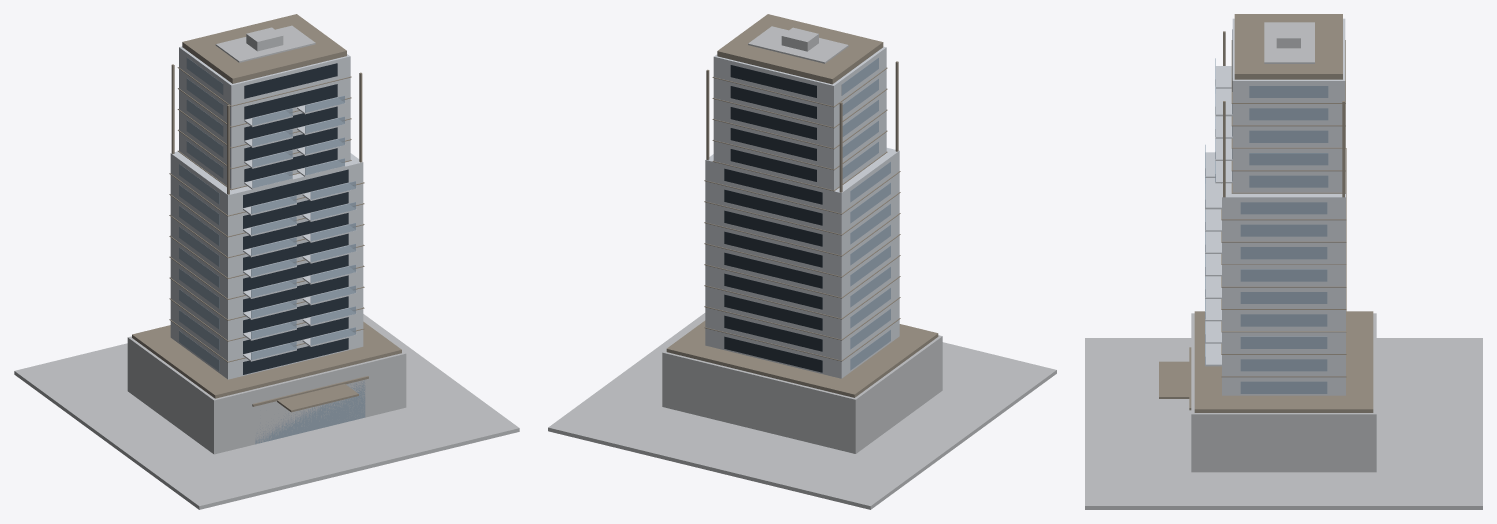
The model's file is signature-condo.glb.
3 renders of one model, left to right at view 1: azimuth 30°, elevation 25°; view 2: azimuth 150°, elevation 25°; view 3: azimuth 270°, elevation 25°, orthographic. The views are drawn at different scales.
Parts seen in each view (by area): view 1: Site, LowerTower, Podium, UpperTower, PodiumCap, RoofParapet, LobbyGlass, WinFront_9, RoofDeck, WinFront_6, WinFront_2, WinFront_4 (+12 smaller); view 2: Site, LowerTower, Podium, UpperTower, PodiumCap, RoofParapet, RoofDeck, WinBack_1, WinBack_2, WinBack_3, WinBack_4, WinBack_5 (+10 smaller); view 3: Site, LowerTower, UpperTower, Podium, PodiumCap, RoofParapet, RoofDeck, Canopy, WinRight_4, WinRight_6, WinRight_1, WinRight_2 (+12 smaller).
Boxes of the visible parts, bbox=[...] form: Site: bbox=[14, 314, 519, 509]; LowerTower: bbox=[170, 151, 363, 379]; Podium: bbox=[127, 336, 406, 454]; UpperTower: bbox=[179, 46, 350, 188]; PodiumCap: bbox=[132, 321, 401, 398]; RoofParapet: bbox=[182, 14, 346, 83]; LobbyGlass: bbox=[255, 379, 365, 444]; WinFront_9: bbox=[243, 169, 348, 207]; RoofDeck: bbox=[215, 25, 315, 62]; WinFront_6: bbox=[243, 233, 348, 270]; WinFront_2: bbox=[243, 317, 348, 353]; WinFront_4: bbox=[243, 275, 348, 312]; Site: bbox=[548, 313, 1056, 509]; LowerTower: bbox=[705, 148, 899, 378]; Podium: bbox=[662, 335, 942, 453]; UpperTower: bbox=[713, 46, 886, 190]; PodiumCap: bbox=[666, 320, 938, 397]; RoofParapet: bbox=[717, 14, 883, 84]; RoofDeck: bbox=[748, 26, 848, 63]; WinBack_1: bbox=[724, 336, 822, 372]; WinBack_2: bbox=[724, 315, 822, 351]; WinBack_3: bbox=[724, 294, 822, 330]; WinBack_4: bbox=[724, 273, 822, 309]; WinBack_5: bbox=[724, 252, 822, 288]; Site: bbox=[1085, 338, 1482, 509]; LowerTower: bbox=[1222, 183, 1345, 395]; UpperTower: bbox=[1232, 18, 1345, 192]; Podium: bbox=[1191, 313, 1376, 472]; PodiumCap: bbox=[1194, 311, 1373, 412]; RoofParapet: bbox=[1234, 14, 1342, 79]; RoofDeck: bbox=[1264, 22, 1314, 63]; Canopy: bbox=[1159, 361, 1189, 398]; WinRight_4: bbox=[1240, 314, 1327, 326]; WinRight_6: bbox=[1240, 269, 1327, 281]; WinRight_1: bbox=[1240, 381, 1327, 393]; WinRight_2: bbox=[1240, 359, 1327, 371].
Bounding box in the file's own units: 18 × 19.69 × 18.
